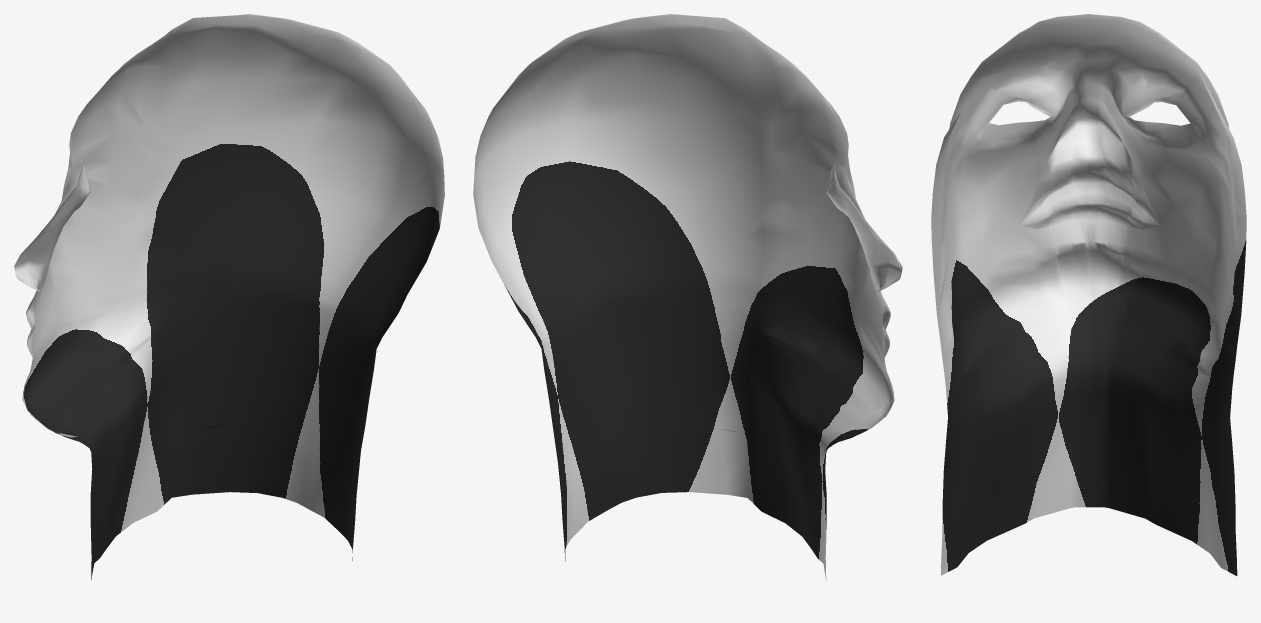
The model's file is cgalref_head_cgal_arap_result.glb.
3 renders of one model, left to right at view 1: azimuth 30°, elevation 25°; view 2: azimuth 150°, elevation 25°; view 3: azimuth 270°, elevation 25°, orthographic. The views are drawn at different scales.
Parts seen in each view (by area): view 1: parameterized; view 2: parameterized; view 3: parameterized.
Part boxes in pixels (x1,y1,x2,y2): parameterized: (14,14,444,580); parameterized: (473,14,902,580); parameterized: (931,14,1246,575).
Size of the model in its own units: 80.37 by 100 by 52.42.
1 material, 1 textured.
